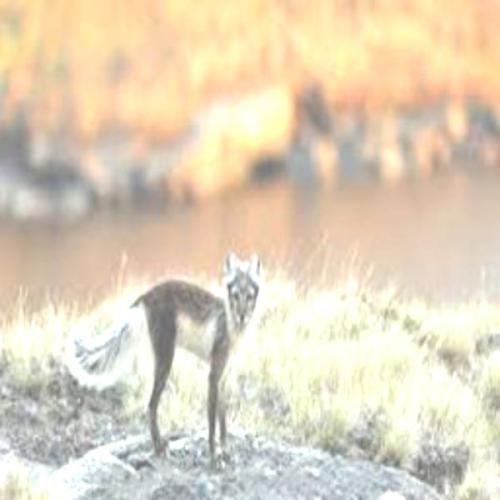arctic_fox-endangered: (63, 250, 259, 469)
